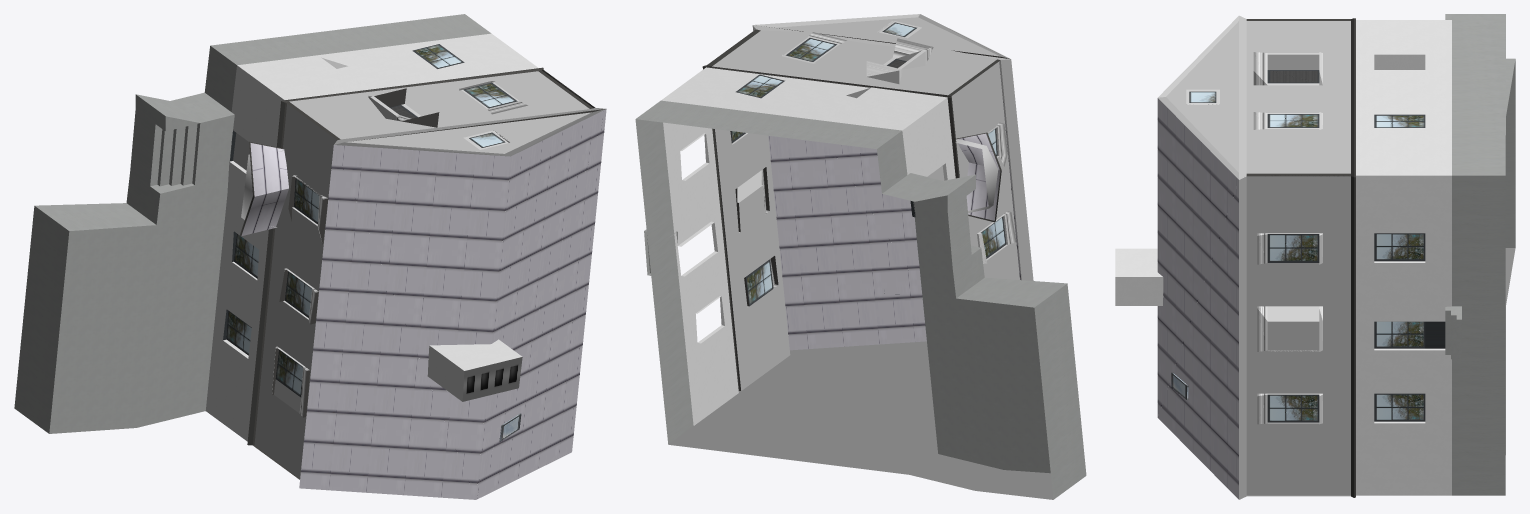
The model's file is Aia_6_2-origo.obj.
3 renders of one model, left to right at view 1: azimuth 30°, elevation 25°; view 2: azimuth 150°, elevation 25°; view 3: azimuth 270°, elevation 25°, orthographic. The views are drawn at different scales.
Visible parts, largest first — view 1: Aia_6_2; view 2: Aia_6_2; view 3: Aia_6_2.
Boxes of the visible parts, box(x1,y1,x2,y2) form: Aia_6_2: box(14, 14, 606, 499); Aia_6_2: box(635, 14, 1086, 499); Aia_6_2: box(1115, 14, 1515, 499).
Size of the model in its own units: 15.75 by 12 by 11.84.
